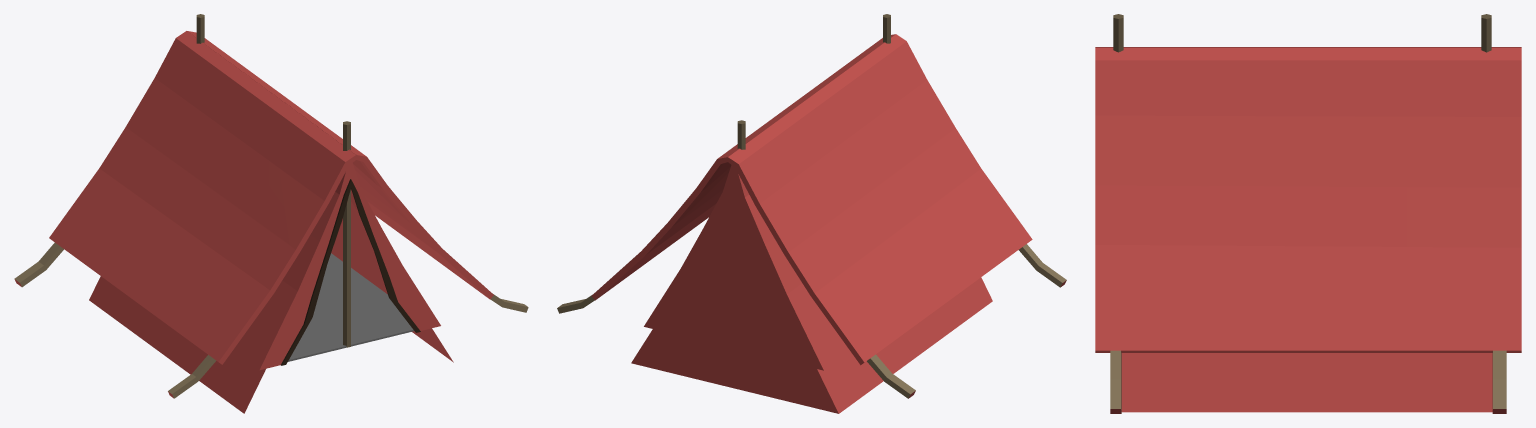
File: tent_1.fbx
3 renders of one model, left to right at view 1: azimuth 30°, elevation 25°; view 2: azimuth 150°, elevation 25°; view 3: azimuth 270°, elevation 25°, orthographic. The views are drawn at different scales.
Visible parts, largest first — view 1: Cylinder_2_2, Cylinder_2_3, Cylinder, Cube, Cylinder_2_4; view 2: Cylinder_2_2, Cylinder_2_3, Cylinder; view 3: Cylinder_2_2, Cylinder, Cylinder_2, Cylinder_2_4.
Boxes of the visible parts, box(x1,y1,x2,y2) form: Cylinder_2_2: box(14, 31, 528, 398); Cylinder_2_3: box(233, 163, 440, 370); Cylinder: box(89, 201, 453, 413); Cube: box(288, 253, 413, 361); Cylinder_2_4: box(343, 121, 350, 347); Cylinder_2_2: box(557, 34, 1066, 398); Cylinder_2_3: box(644, 165, 850, 370); Cylinder: box(631, 277, 992, 413); Cylinder_2_2: box(1095, 47, 1521, 413); Cylinder: box(1121, 353, 1492, 412); Cylinder_2: box(1481, 14, 1491, 52); Cylinder_2_4: box(1113, 14, 1123, 52).
Size of the model in its own units: 436 by 308 by 359.
